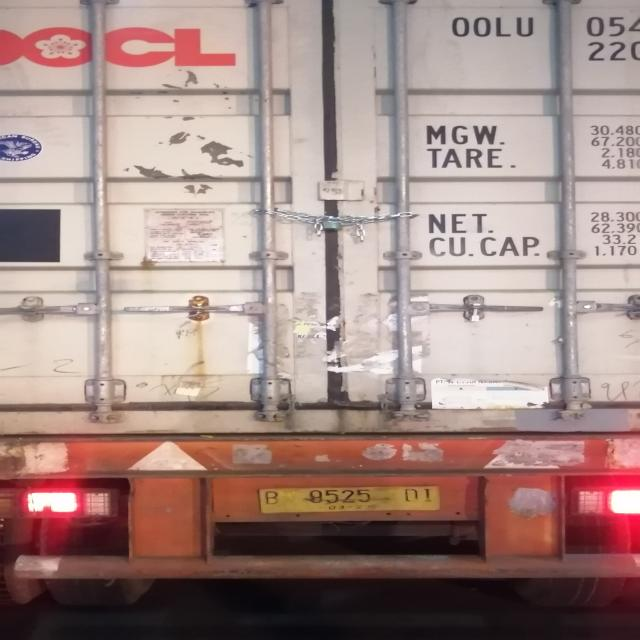seal: (468, 303, 482, 322)
